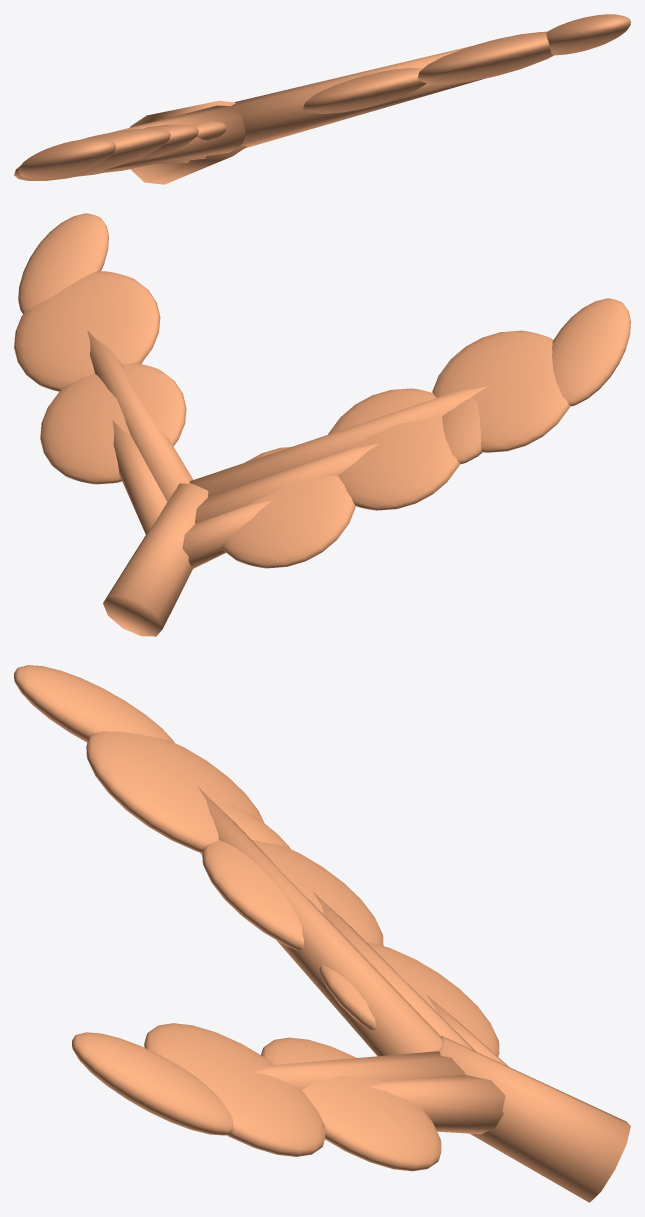
File: underwater-reef-worlds-elkhorn-coral-07088e0e__6995.glb
3 renders of one model, top to bottom at view 1: azimuth 30°, elevation 25°; view 2: azimuth 150°, elevation 25°; view 3: azimuth 270°, elevation 25°, orthographic. The views are drawn at different scales.
Parts seen in each view (by area): view 1: elkhorn-coral; view 2: elkhorn-coral; view 3: elkhorn-coral.
Part boxes in pixels (x1,y1,x2,y2): elkhorn-coral: (14,14,630,184); elkhorn-coral: (14,213,630,636); elkhorn-coral: (14,665,630,1202).
Bounding box in the file's own units: 2.17 × 0.9188 × 1.48.
